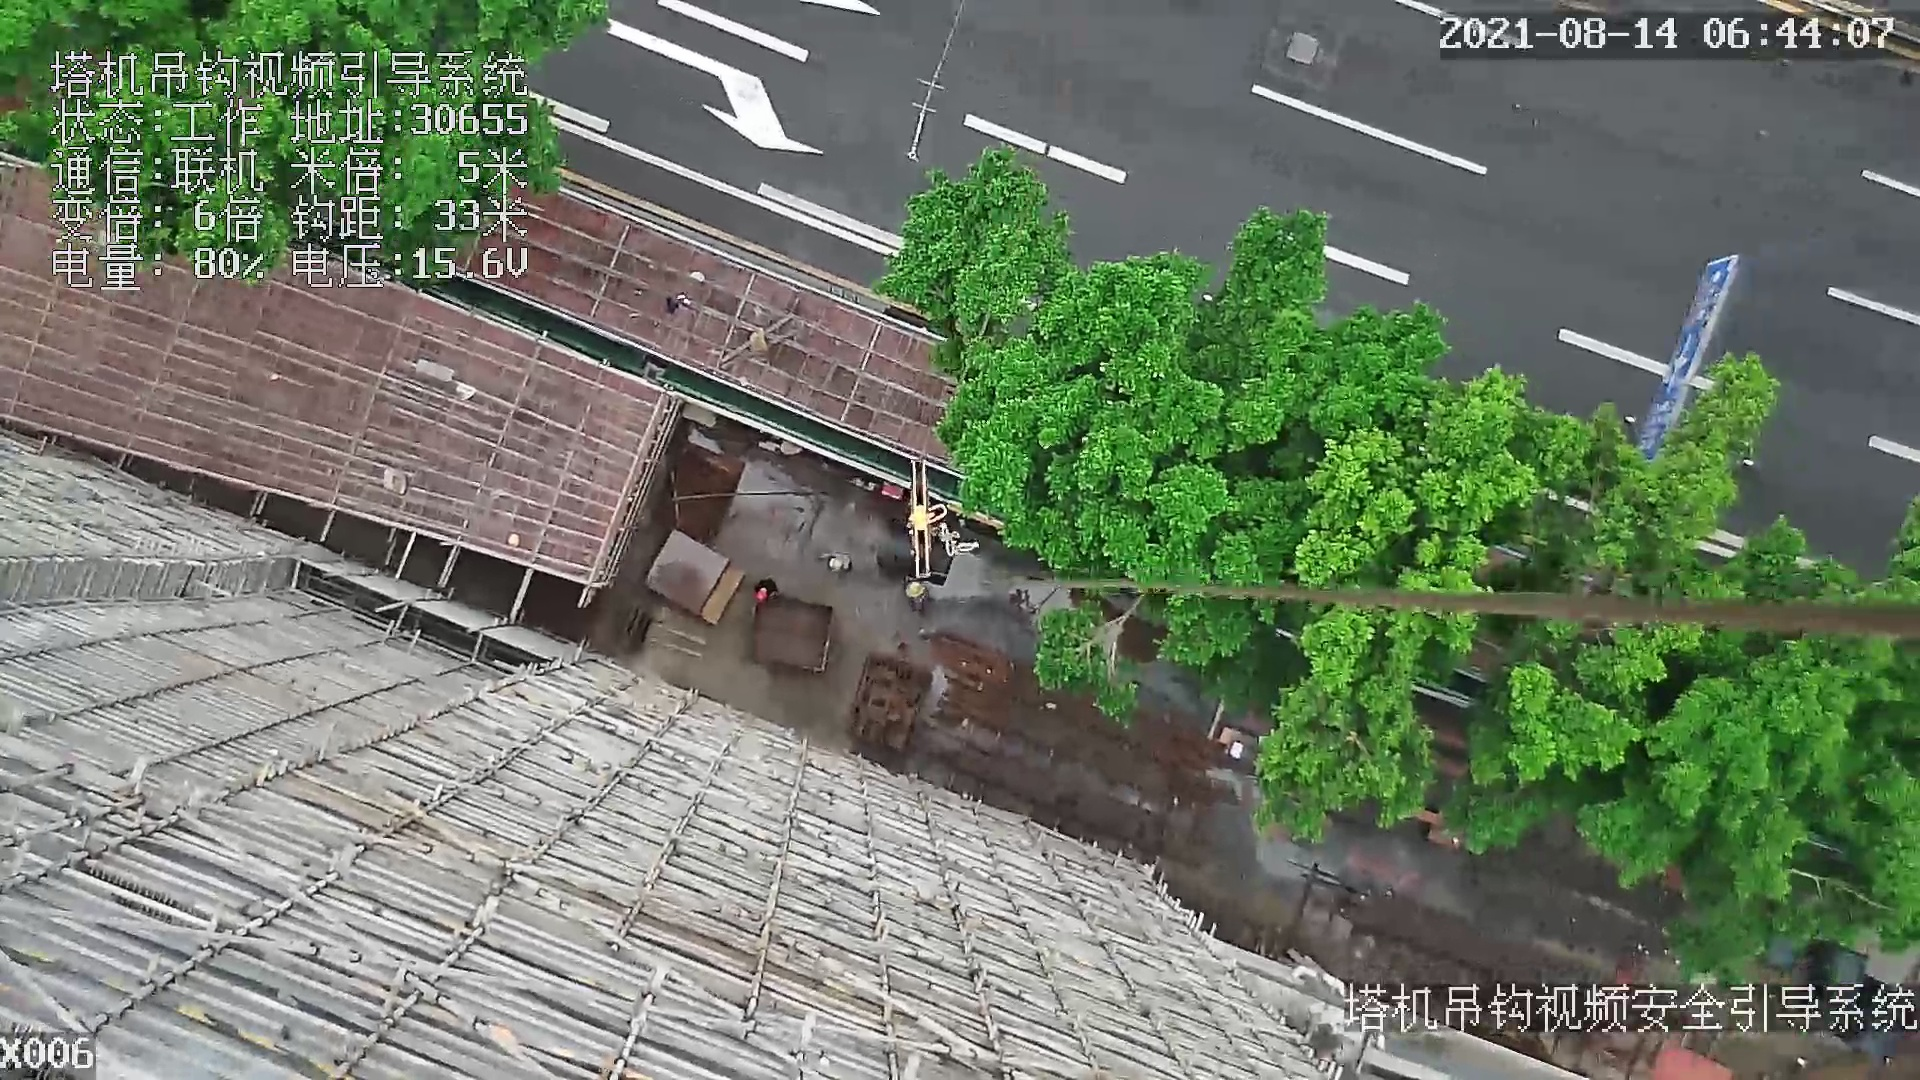helmet: (757, 593, 766, 601)
hook: (900, 462, 951, 583)
person: (753, 573, 781, 605), (900, 583, 928, 609), (820, 551, 851, 573)
